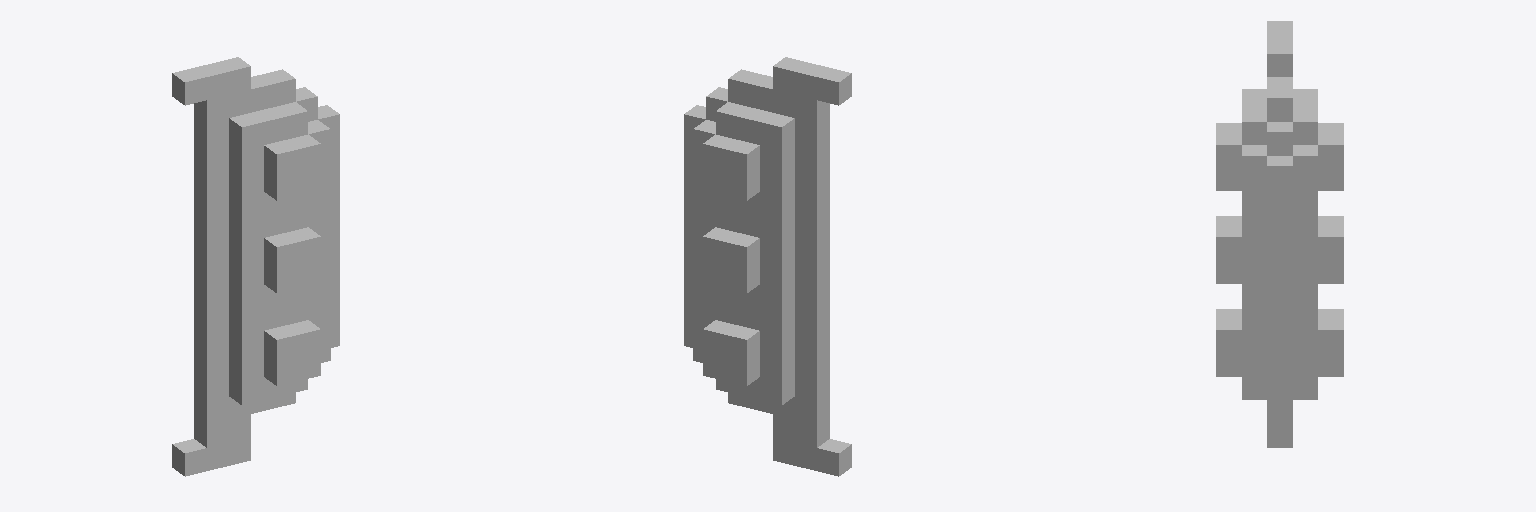
The model's file is 0_4 feij.obj.
3 views of the same model, side by side, from view 1: azimuth 30°, elevation 25°; view 2: azimuth 150°, elevation 25°; view 3: azimuth 270°, elevation 25° (orthographic).
Parts seen in each view (by area): view 1: object 1; view 2: object 1; view 3: object 1.
Part boxes in pixels (bbox=[...]): object 1: bbox=[172, 57, 339, 476]; object 1: bbox=[684, 57, 851, 476]; object 1: bbox=[1216, 21, 1343, 447].
Bounding box in the file's own units: 0.7 × 1.7 × 0.5.